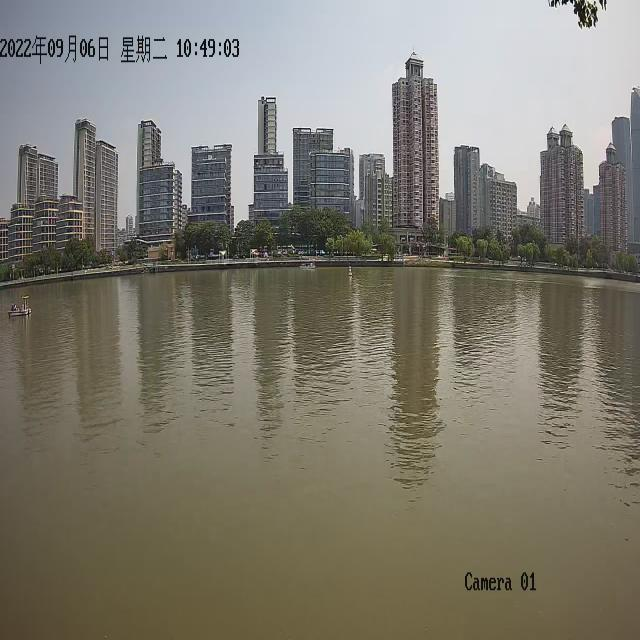ship: (7, 294, 31, 315), (298, 258, 316, 268)
